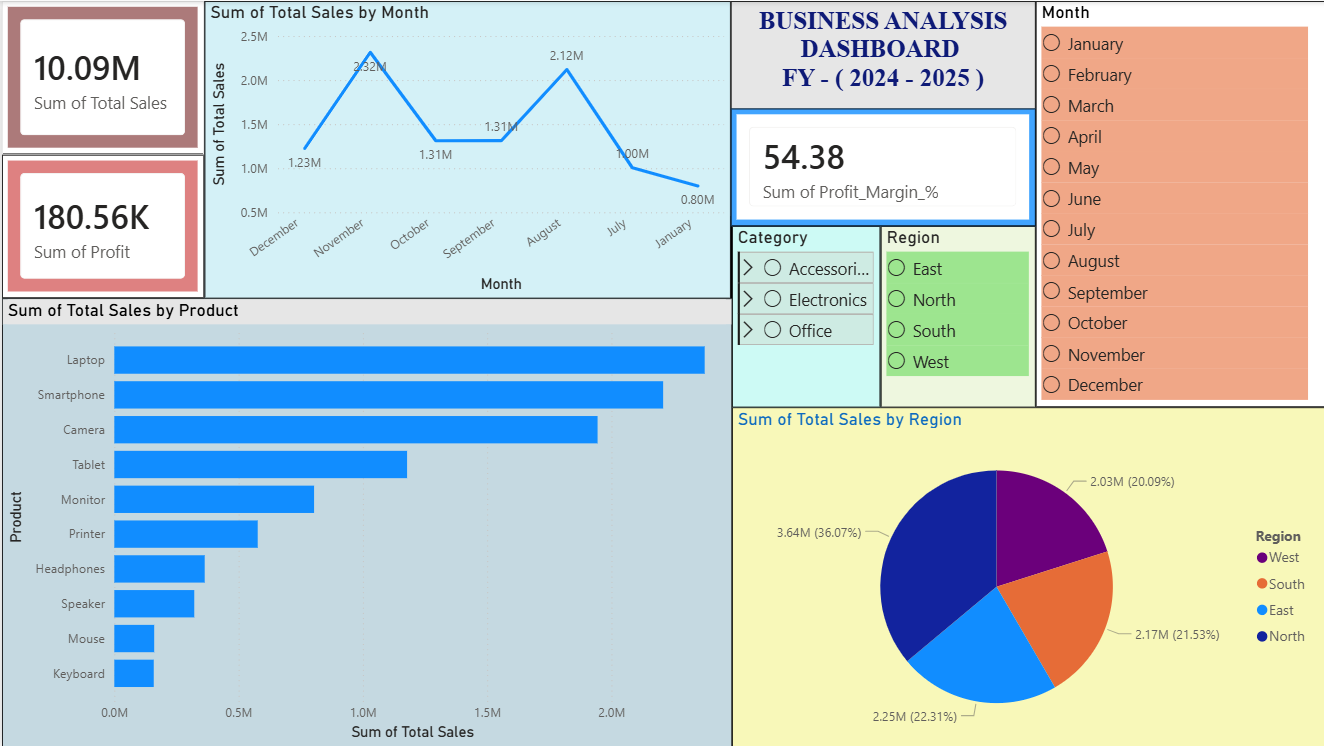

The page's visual inventory and layout, read from the dashboard file:
{"tool":"powerbi","page":{"name":"Page 1","canvas":[1280,720],"ordinal":0},"visuals":[{"type":"cardVisual","fields":{"Data":["Sum(CLEANED DATA.Total Sales)"]},"box":[0,0,195.4,148.4],"z":0},{"type":"cardVisual","fields":{"Data":["Sum(CLEANED DATA.Profit)"]},"box":[0,148.4,195.4,138.7],"z":1000},{"type":"clusteredBarChart","fields":{"Category":["CLEANED DATA.Product"],"Y":["Sum(CLEANED DATA.Total Sales)"]},"box":[0,287.1,704.6,433.1],"z":2000},{"type":"lineChart","fields":{"Category":["CLEANED DATA.Order_Date.Variation.Date Hierarchy.Month"],"Y":["Sum(CLEANED DATA.Total Sales)"]},"box":[195.4,0,507.9,287.1],"z":3000},{"type":"pieChart","fields":{"Category":["CLEANED DATA.Region"],"Y":["Sum(CLEANED DATA.Total Sales)"]},"box":[704.6,392.1,575.5,328.2],"z":4000},{"type":"listSlicer","fields":{"Values":["CLEANED DATA.Order_Date.Variation.Date Hierarchy.Month"]},"box":[997.7,0,282.3,392.1],"z":5000},{"type":"listSlicer","fields":{"Values":["CLEANED DATA.Region"]},"box":[848.1,217.2,149.6,174.9],"z":6000},{"type":"listSlicer","fields":{"Values":["CLEANED DATA.Category","CLEANED DATA.Product"]},"box":[704.6,217.2,143.6,174.9],"z":7000},{"type":"textbox","box":[703.4,0,294.4,207.5],"z":8000},{"type":"cardVisual","fields":{"Data":["Sum(CLEANED DATA.Profit_Margin_%)"]},"box":[703.4,103.8,294.4,113.4],"z":9000}]}

Visuals, with their boxes in screenshot pixels (x1, y1, x2, y2), scaled from the page's 1280x720 canvas onto the 1324x746 screenshot:
cardVisual - Sum(CLEANED DATA.Total Sales): bbox=(0, 0, 202, 154)
cardVisual - Sum(CLEANED DATA.Profit): bbox=(0, 154, 202, 297)
clusteredBarChart - CLEANED DATA.Product x Sum(CLEANED DATA.Total Sales): bbox=(0, 297, 729, 745)
lineChart - CLEANED DATA.Order_Date.Variation.Date Hierarchy.Month x Sum(CLEANED DATA.Total Sales): bbox=(202, 0, 727, 297)
pieChart - CLEANED DATA.Region x Sum(CLEANED DATA.Total Sales): bbox=(729, 406, 1323, 745)
listSlicer - CLEANED DATA.Order_Date.Variation.Date Hierarchy.Month: bbox=(1032, 0, 1323, 406)
listSlicer - CLEANED DATA.Region: bbox=(877, 225, 1032, 406)
listSlicer - CLEANED DATA.Category x CLEANED DATA.Product: bbox=(729, 225, 877, 406)
textbox: bbox=(728, 0, 1032, 215)
cardVisual - Sum(CLEANED DATA.Profit_Margin_%): bbox=(728, 108, 1032, 225)
